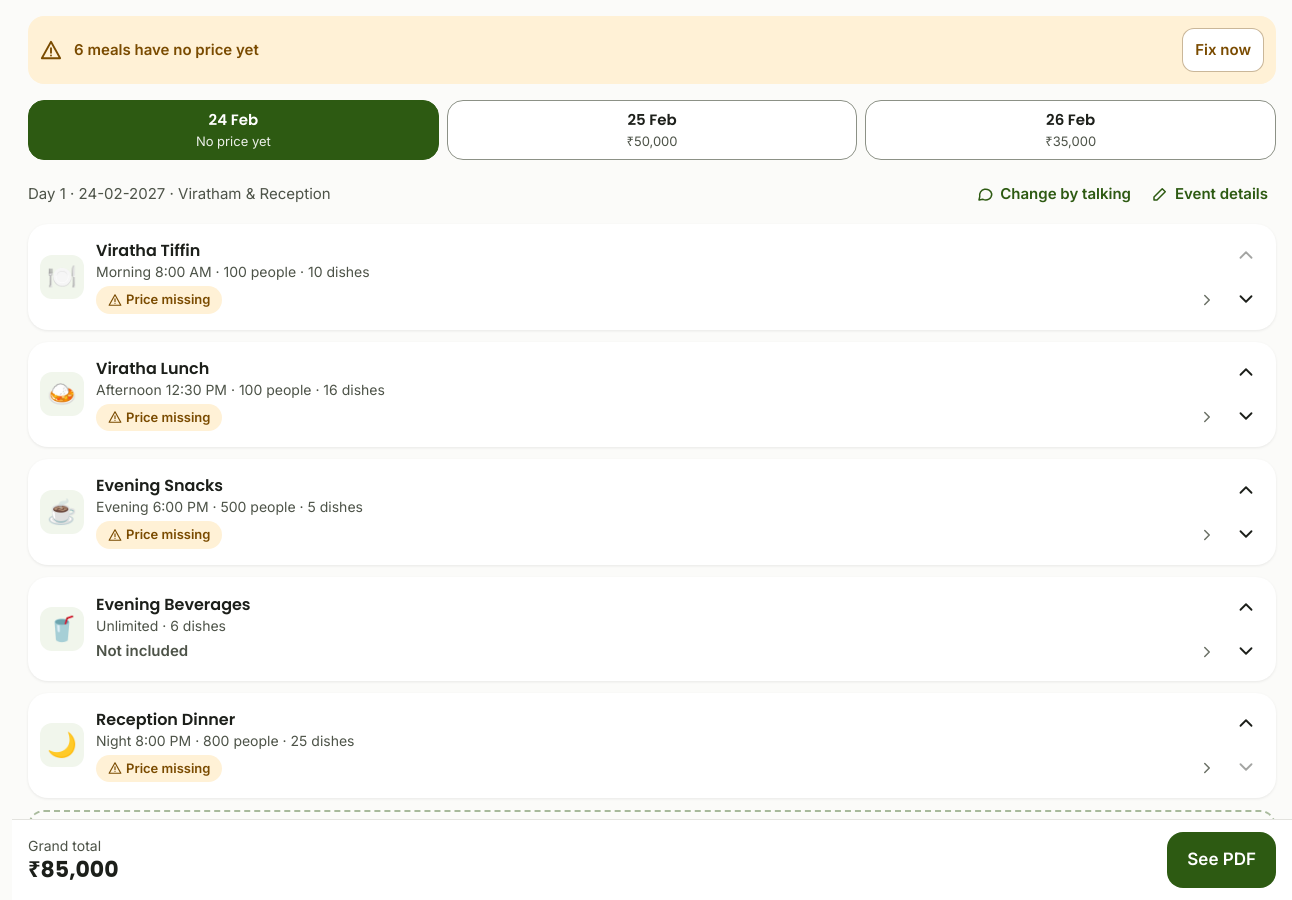
Test case: Menu › switches day with the day buttons and remembers it in the address
Click the button "26 Feb ₹35,000".
click(1071, 130)  # box [865,100,1276,160]
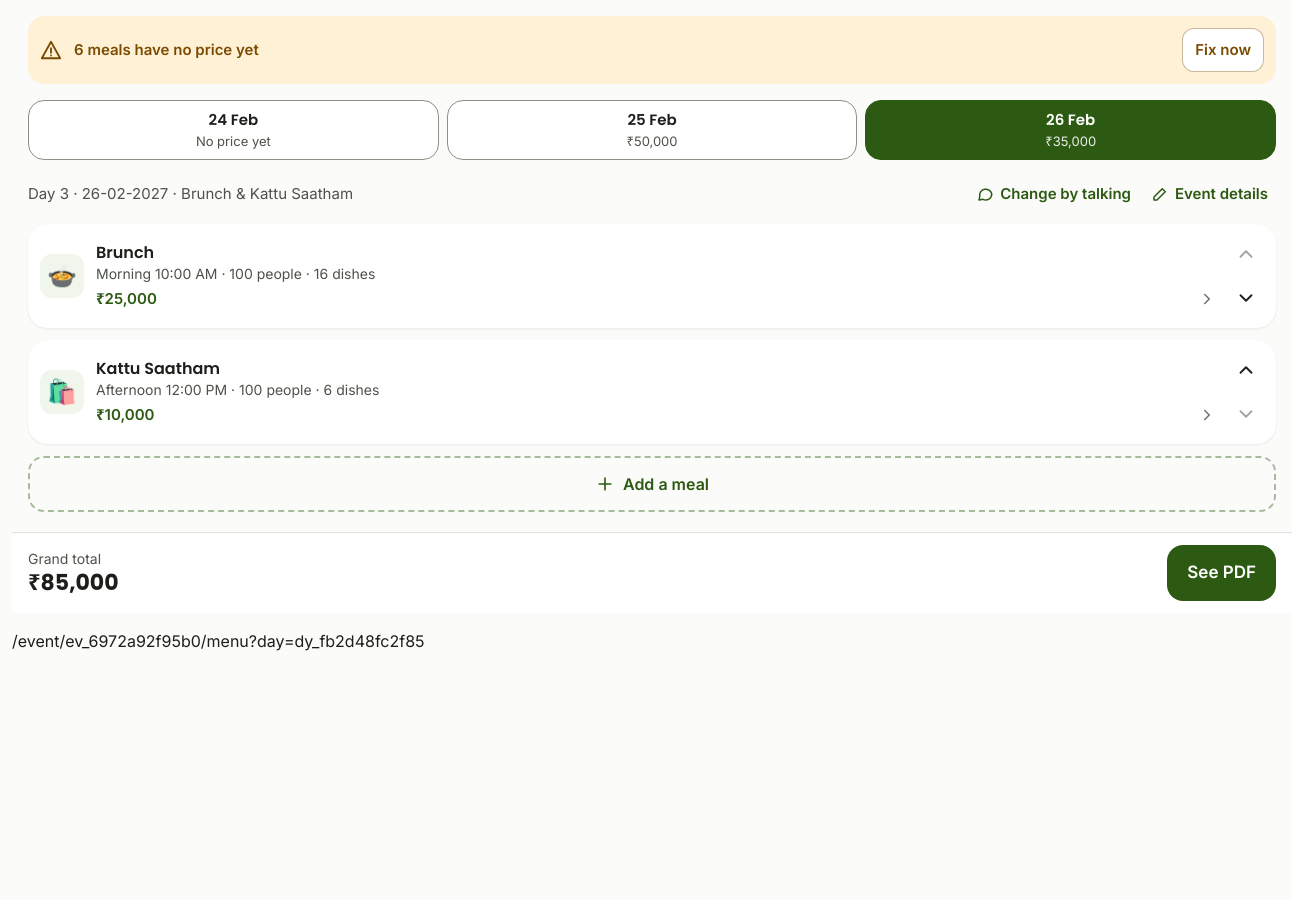
Now the link "🍲 Brunch Morning 10:00 AM · 100 people · 16 dishes ₹25,000" is shown, box [40,232,1220,320]
